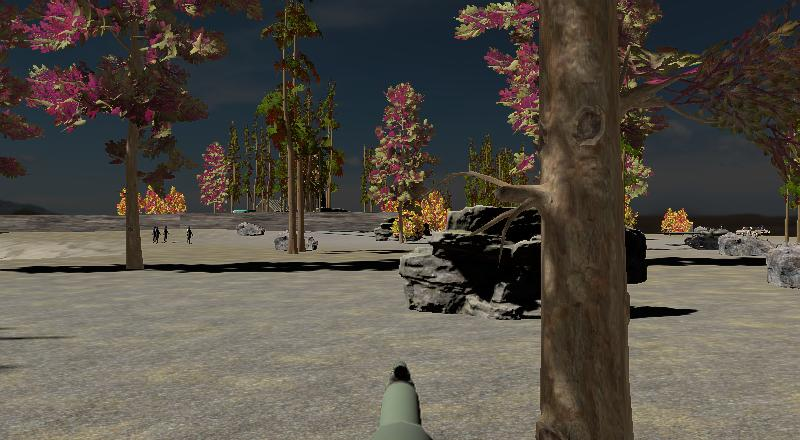Human: (185, 225, 194, 246), (162, 223, 170, 245)
Tank: (663, 228, 726, 250)
